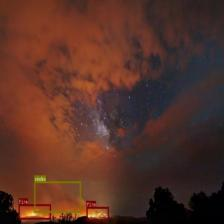fire: (19, 204, 50, 219), (86, 206, 109, 220)
smoke: (34, 181, 81, 212)
